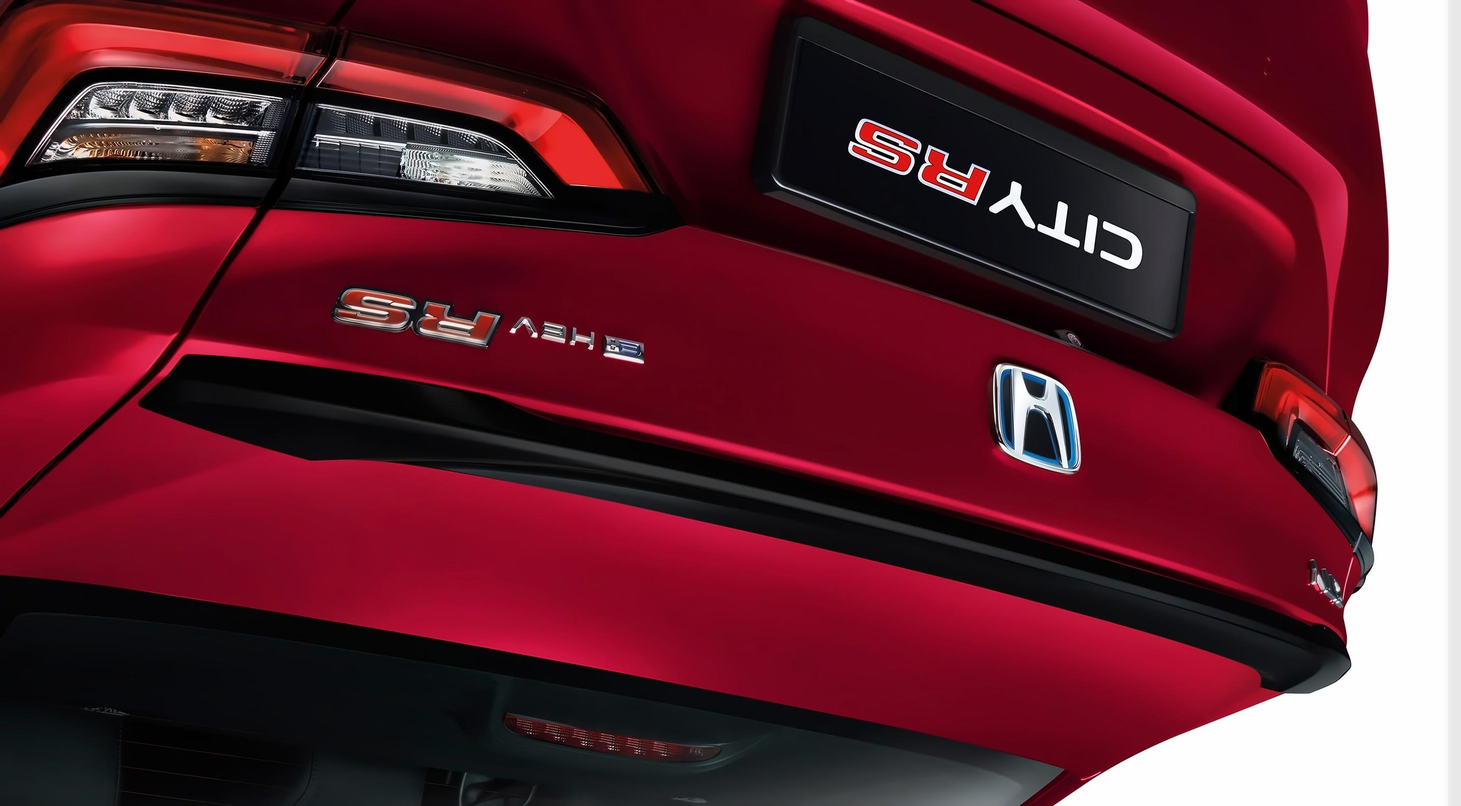Car boot: (0, 0, 1342, 806)
Rear bumper: (967, 0, 1420, 392)
Rear light - -L-: (1226, 336, 1388, 580)
Rear light - -R-: (0, 0, 705, 245)
